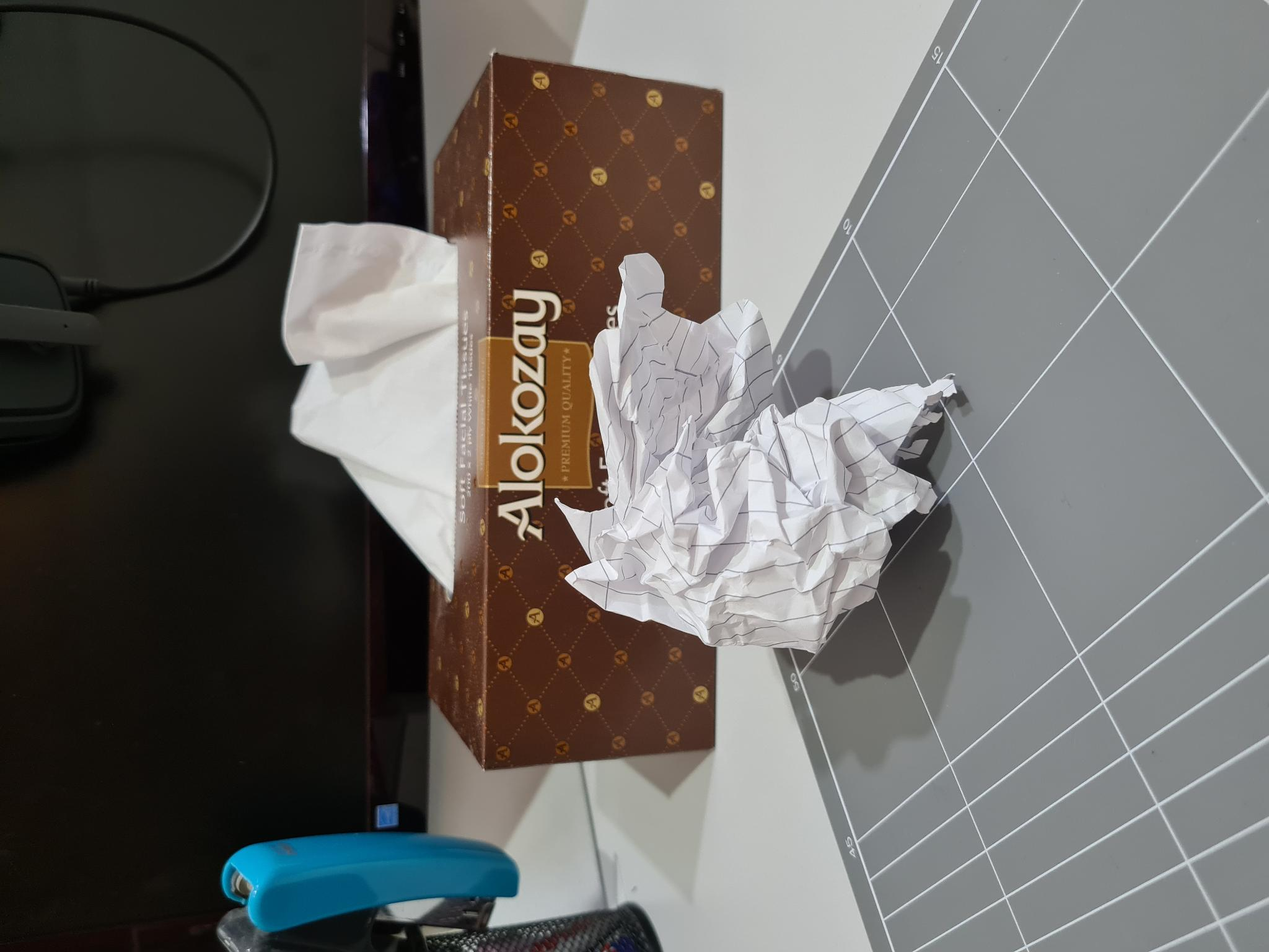Kertas: (301, 565, 697, 934)
